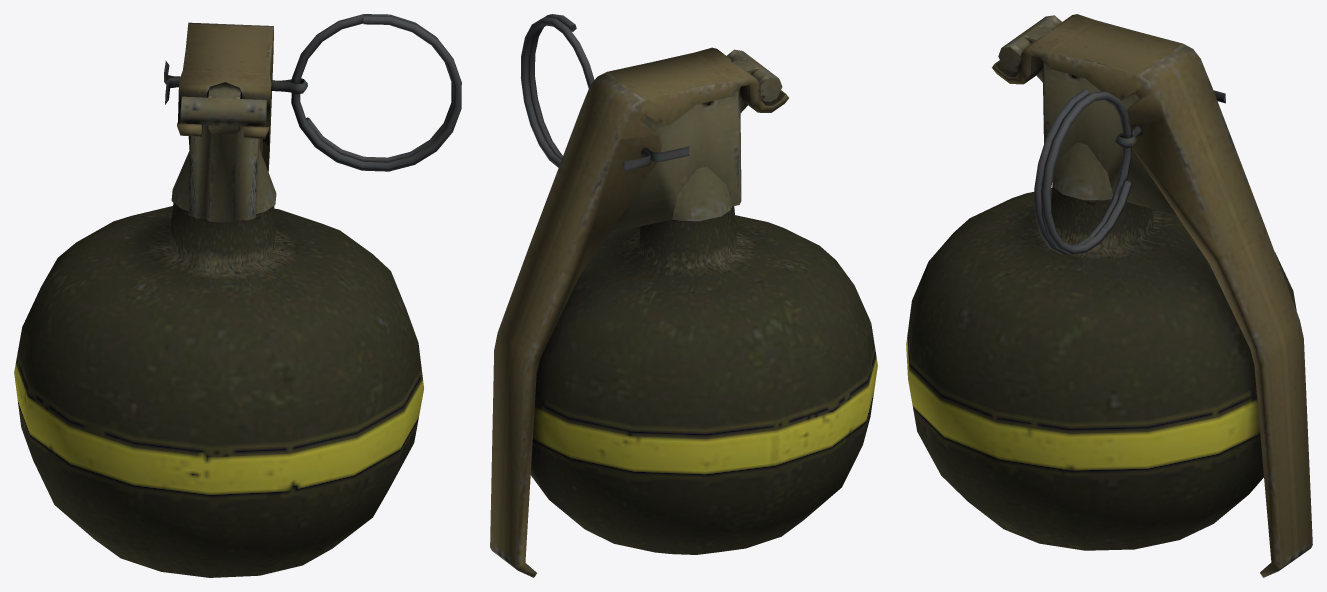
The model's file is frag_grenade.glb.
3 views of the same model, side by side, from view 1: azimuth 30°, elevation 25°; view 2: azimuth 150°, elevation 25°; view 3: azimuth 270°, elevation 25° (orthographic). The views are drawn at different scales.
Parts seen in each view (by area): view 1: models/weapons/w_eq_fraggrenade.001; view 2: models/weapons/w_eq_fraggrenade.001; view 3: models/weapons/w_eq_fraggrenade.001.
Boxes of the visible parts, x1,y1,x2,y2 form: models/weapons/w_eq_fraggrenade.001: (14,14,461,577); models/weapons/w_eq_fraggrenade.001: (490,14,877,577); models/weapons/w_eq_fraggrenade.001: (906,14,1312,577).
Size of the model in its own units: 3.72 by 4.71 by 3.45.
Materials: 1 (1 with a texture image).
